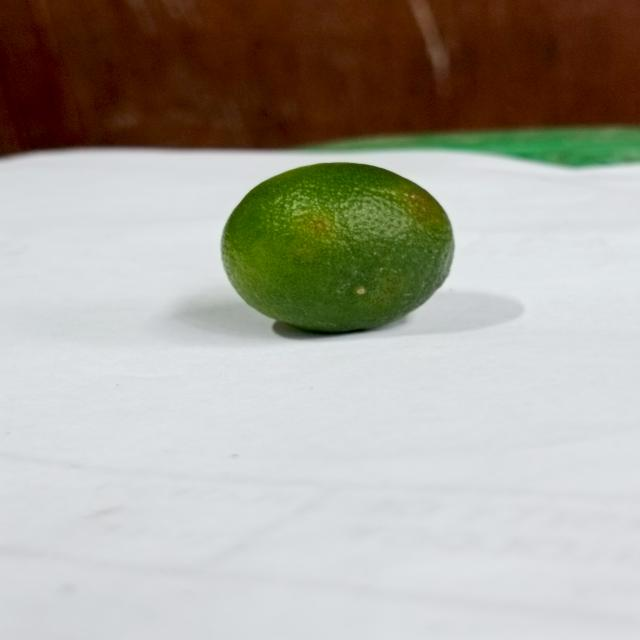heathy: (222, 165, 459, 331)
